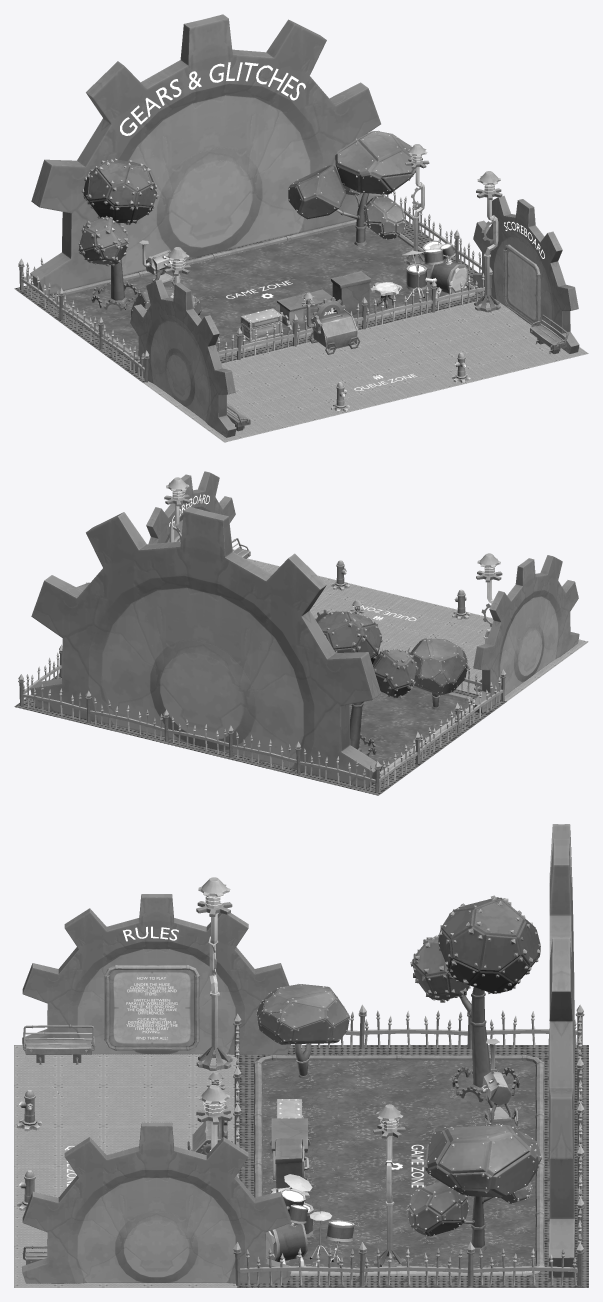
Rendered from obj_exterior_alt.gltf.
The picture shows the model from 3 angles, top to bottom: view 1: azimuth 30°, elevation 25°; view 2: azimuth 150°, elevation 25°; view 3: azimuth 270°, elevation 25°; orthographic projection. The views are drawn at different scales.
Visible parts, largest first — view 1: obj_wall_alt, obj_floor_alt, obj_grass_alt, obj_tree02_alt, obj_fence_alt, obj_tree03_alt, obj_lamp01_alt, obj_pipes_alt, obj_frame_alt, obj_drums01_alt, obj_text_alt, obj_terminal_alt (+6 smaller); view 2: obj_wall_alt, obj_floor_alt, obj_fence_alt, obj_grass_alt, obj_tree03_alt, obj_tree01_alt, obj_lamp01_alt, obj_hydrant01_alt, obj_pipes_alt; view 3: obj_wall_alt, obj_grass_alt, obj_floor_alt, obj_tree03_alt, obj_tree02_alt, obj_fence_alt, obj_frame_alt, obj_pipes_alt, obj_lamp01_alt, obj_tree01_alt, obj_drums01_alt, obj_bench_alt (+6 smaller).
Boxes of the visible parts, x1,y1,x2,y2 form: obj_wall_alt: (30, 14, 579, 437); obj_floor_alt: (14, 219, 588, 442); obj_grass_alt: (63, 222, 467, 355); obj_tree02_alt: (288, 130, 415, 246); obj_fence_alt: (18, 190, 492, 382); obj_tree03_alt: (78, 158, 158, 304); obj_lamp01_alt: (164, 144, 502, 312); obj_pipes_alt: (54, 219, 475, 357); obj_frame_alt: (503, 244, 540, 326); obj_drums01_alt: (402, 240, 467, 301); obj_text_alt: (120, 62, 544, 390); obj_terminal_alt: (301, 292, 360, 354); obj_wall_alt: (30, 471, 579, 787); obj_floor_alt: (14, 558, 588, 795); obj_fence_alt: (18, 644, 505, 792); obj_grass_alt: (349, 687, 471, 769); obj_tree03_alt: (318, 610, 418, 751); obj_tree01_alt: (410, 638, 467, 709); obj_lamp01_alt: (164, 477, 502, 691); obj_hydrant01_alt: (331, 560, 470, 620); obj_pipes_alt: (380, 684, 474, 774); obj_wall_alt: (22, 824, 575, 1283); obj_grass_alt: (262, 1060, 535, 1268); obj_floor_alt: (14, 1045, 588, 1287); obj_tree03_alt: (410, 895, 540, 1093); obj_tree02_alt: (406, 1123, 541, 1252); obj_fence_alt: (233, 1004, 584, 1286); obj_frame_alt: (104, 965, 199, 1050); obj_pipes_alt: (253, 1055, 545, 1275); obj_lamp01_alt: (196, 877, 405, 1266); obj_tree01_alt: (256, 983, 349, 1078); obj_drums01_alt: (265, 1174, 354, 1266); obj_bench_alt: (22, 1024, 95, 1264).
Size of what is drawn, in the model's own units: 16 by 9.72 by 16.
Materials: 23 (22 with a texture image).
